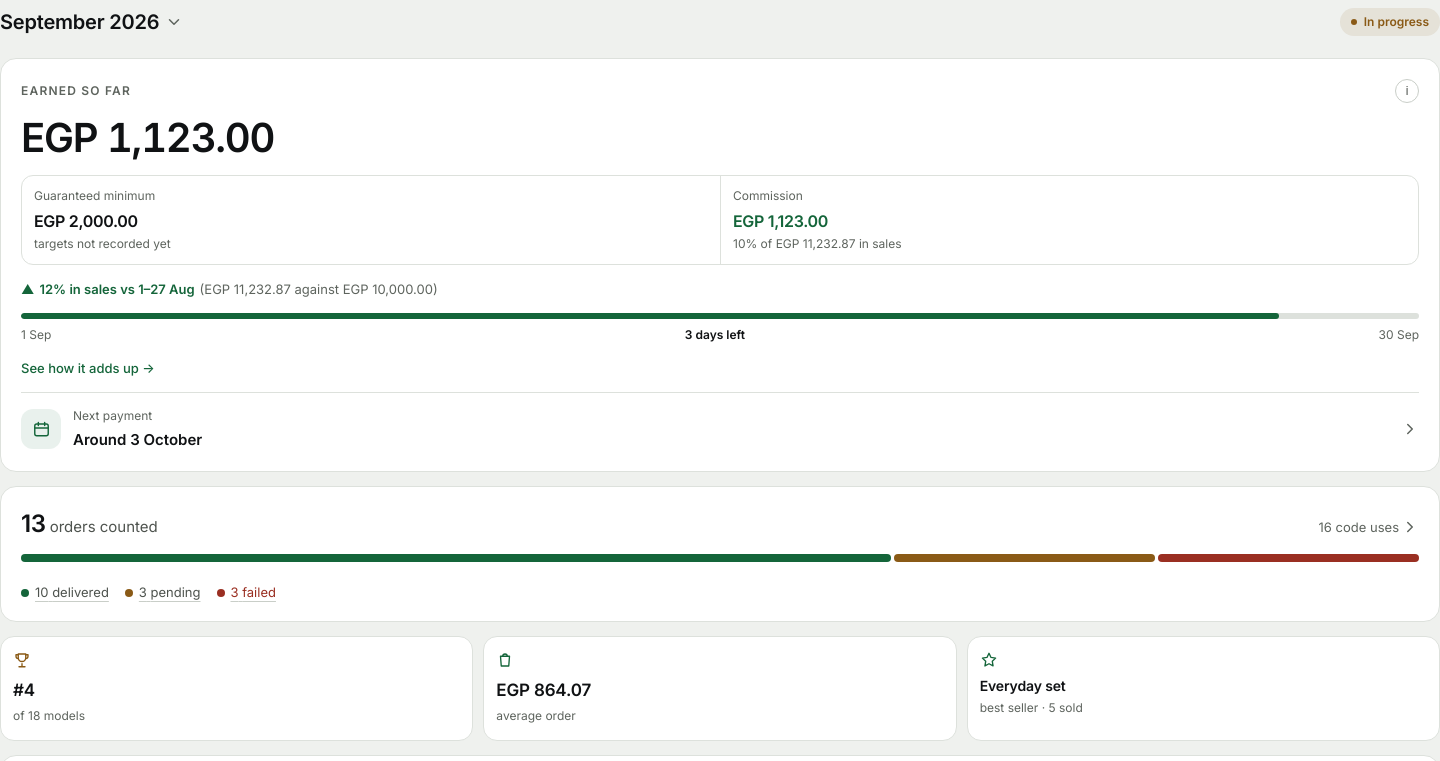
Test case: Home › splits a guaranteed month into the minimum and the commission
Expected: the text "Guaranteed minimum" is shown, [34,188,155,203]
Expected: the text "EGP 2,000.00" is shown, [34,211,138,231]
Click the button named "How the guaranteed minimum works".
click(1407, 91)  # box [1395,79,1419,103]
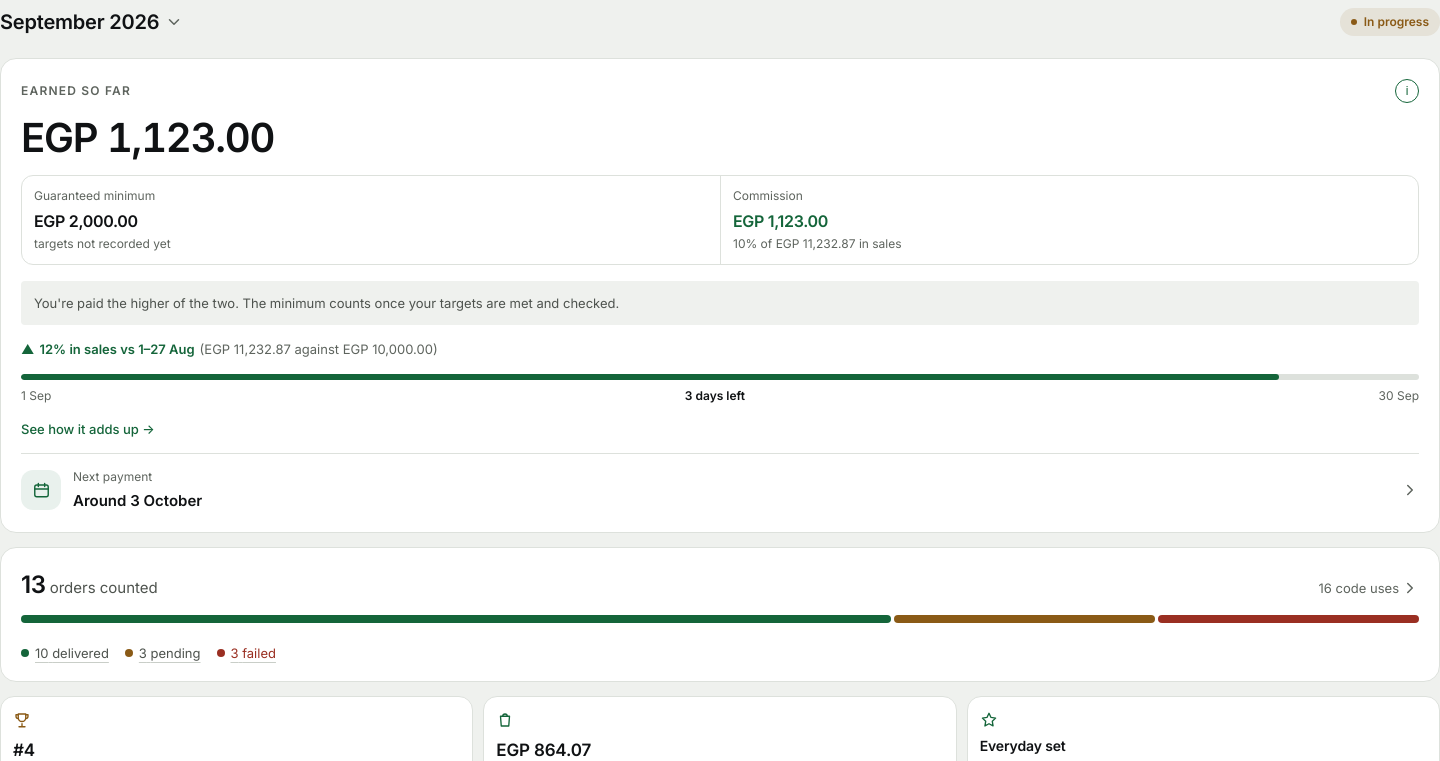
Expected: the button named "How the guaranteed minimum works" is expanded, [1395,79,1419,103]
Expected: the text "paid the higher of the two" is shown, [34,295,619,311]
